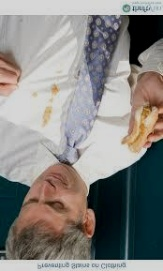mustard: (38, 101, 55, 133), (48, 83, 57, 96), (33, 93, 37, 98)
